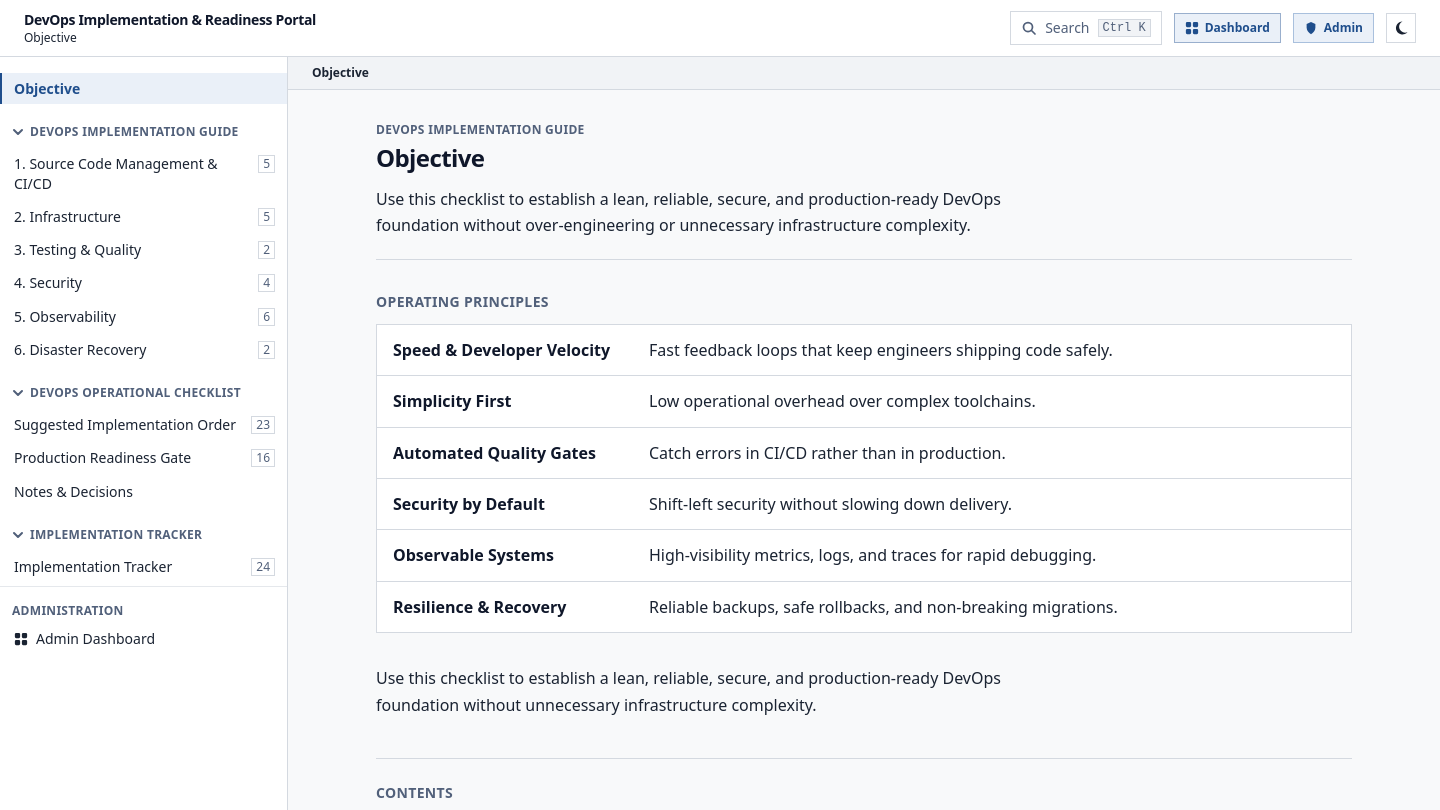
Test: search dialog — opening and closing › closes on Escape
Click the button "Search Ctrl K" at (1086, 28), box left=1010, top=11, right=1162, bottom=45
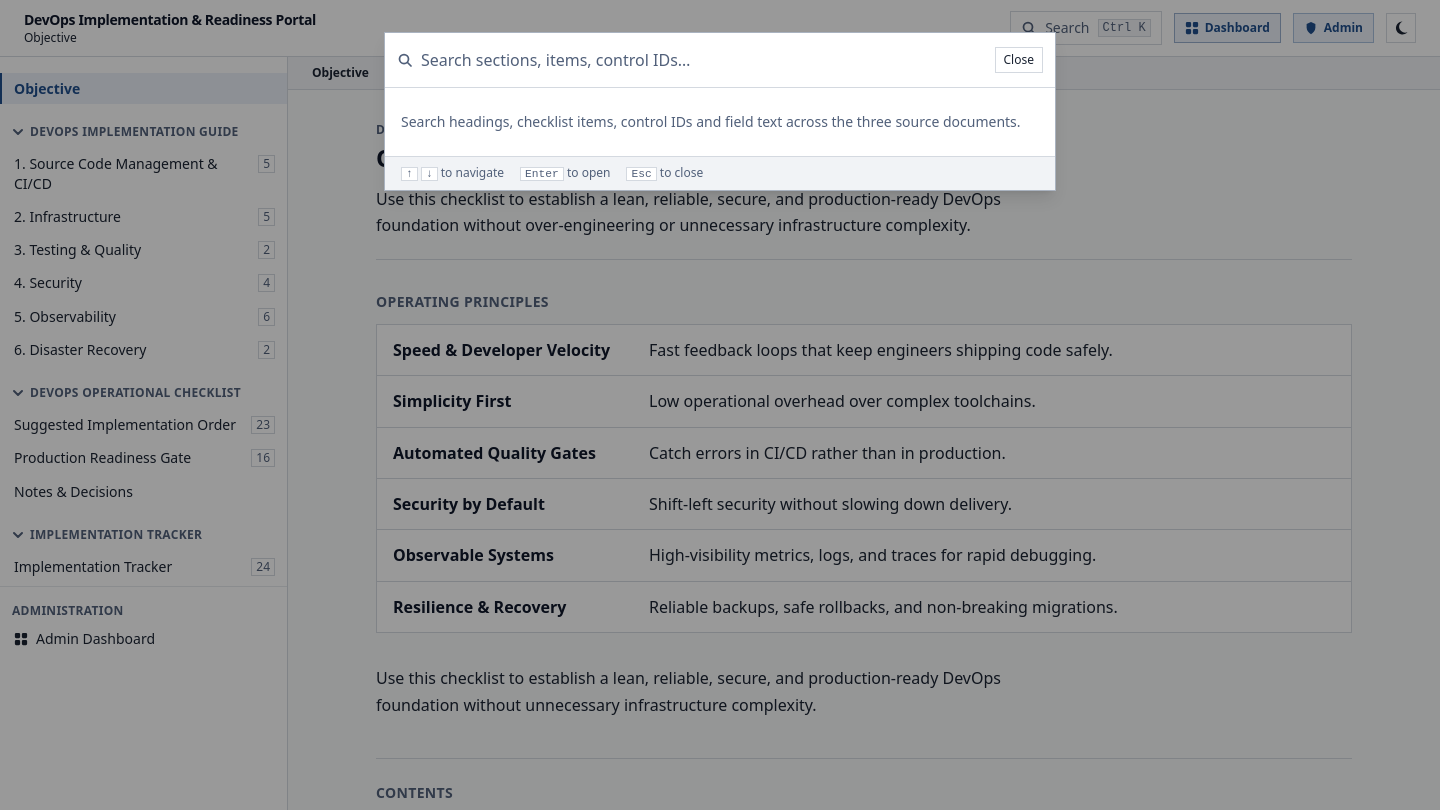
Press Escape
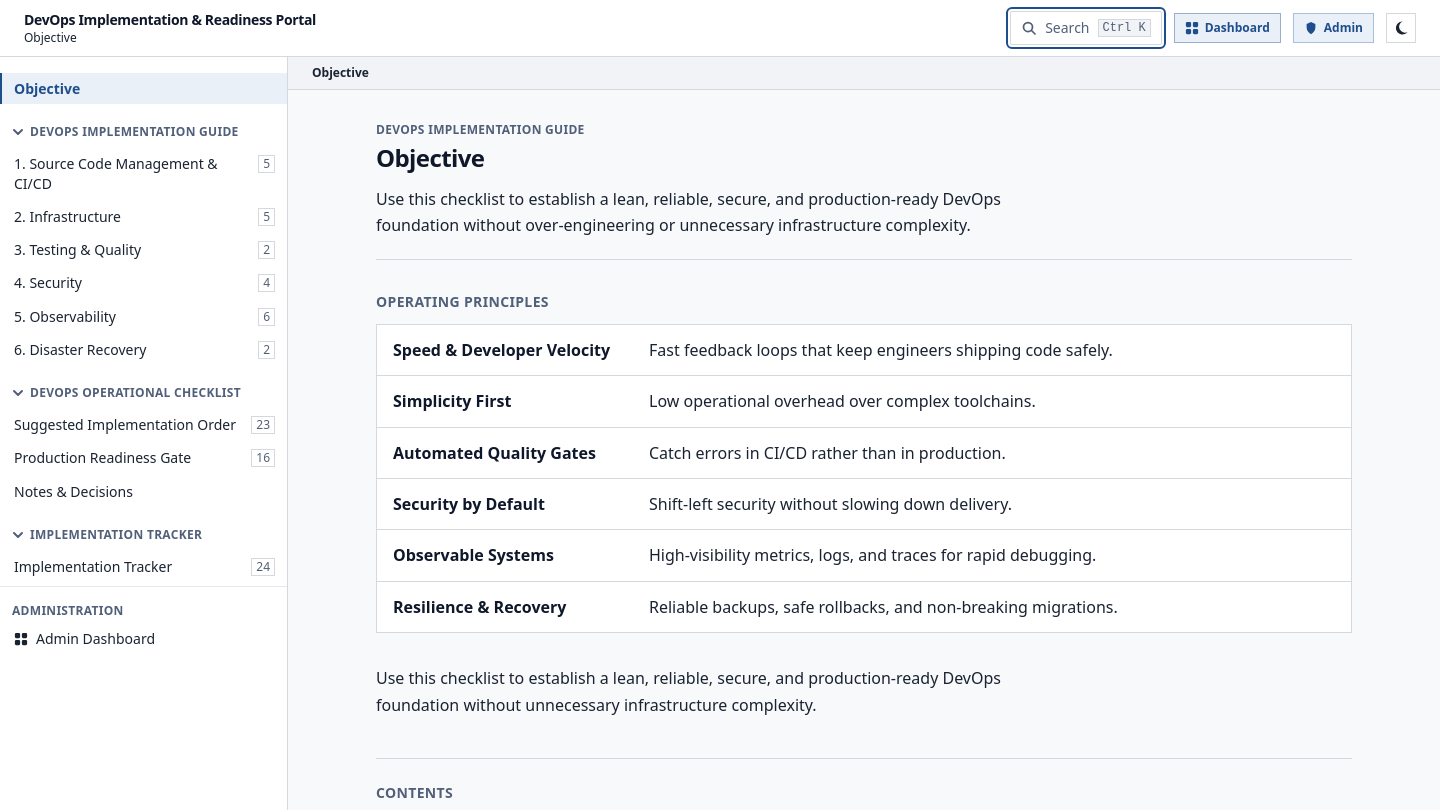
Expected: the dialog is gone
